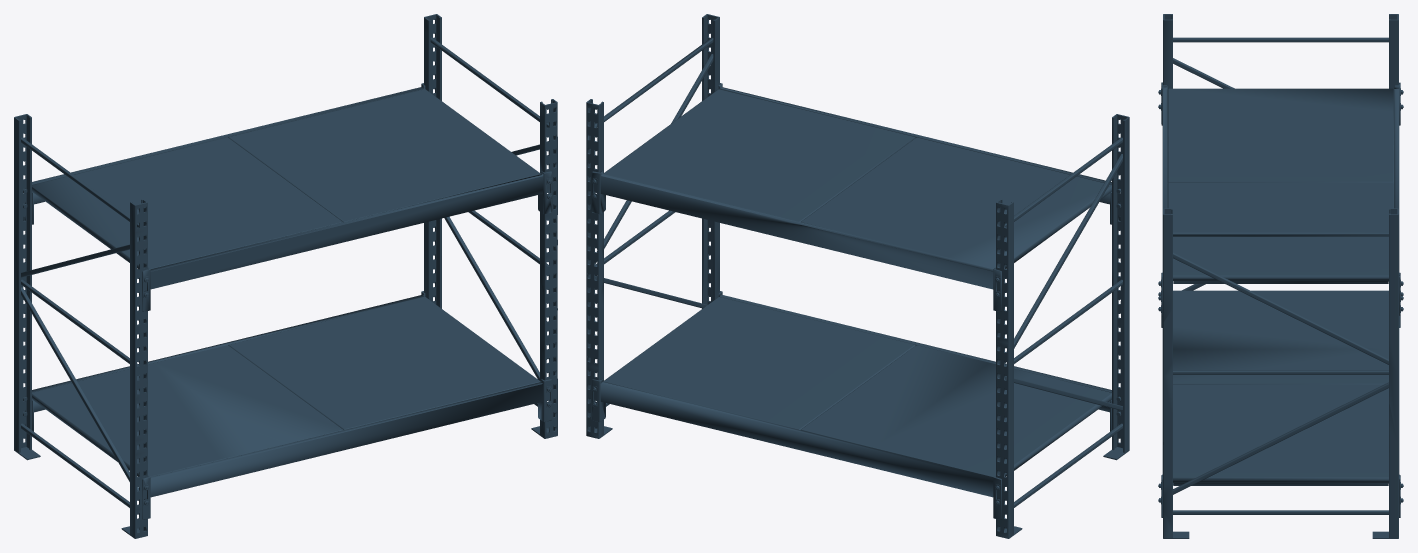
Rendered from rack_large.glb.
3 renders of one model, left to right at view 1: azimuth 30°, elevation 25°; view 2: azimuth 150°, elevation 25°; view 3: azimuth 270°, elevation 25°, orthographic. The views are drawn at different scales.
Parts seen in each view (by area): view 1: body; view 2: body; view 3: body.
Boxes of the visible parts, box(x1,y1,x2,y2) form: body: box(14, 14, 557, 538); body: box(586, 14, 1129, 538); body: box(1158, 14, 1403, 538).
Bounding box in the file's own units: 4 × 3.01 × 2.07.
